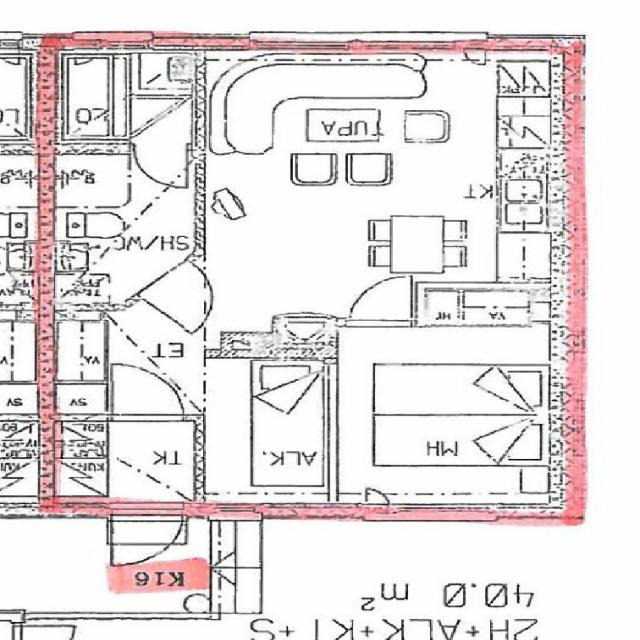door: (134, 257, 243, 334), (112, 503, 182, 568), (112, 363, 183, 421), (349, 276, 412, 326), (135, 143, 187, 190)
